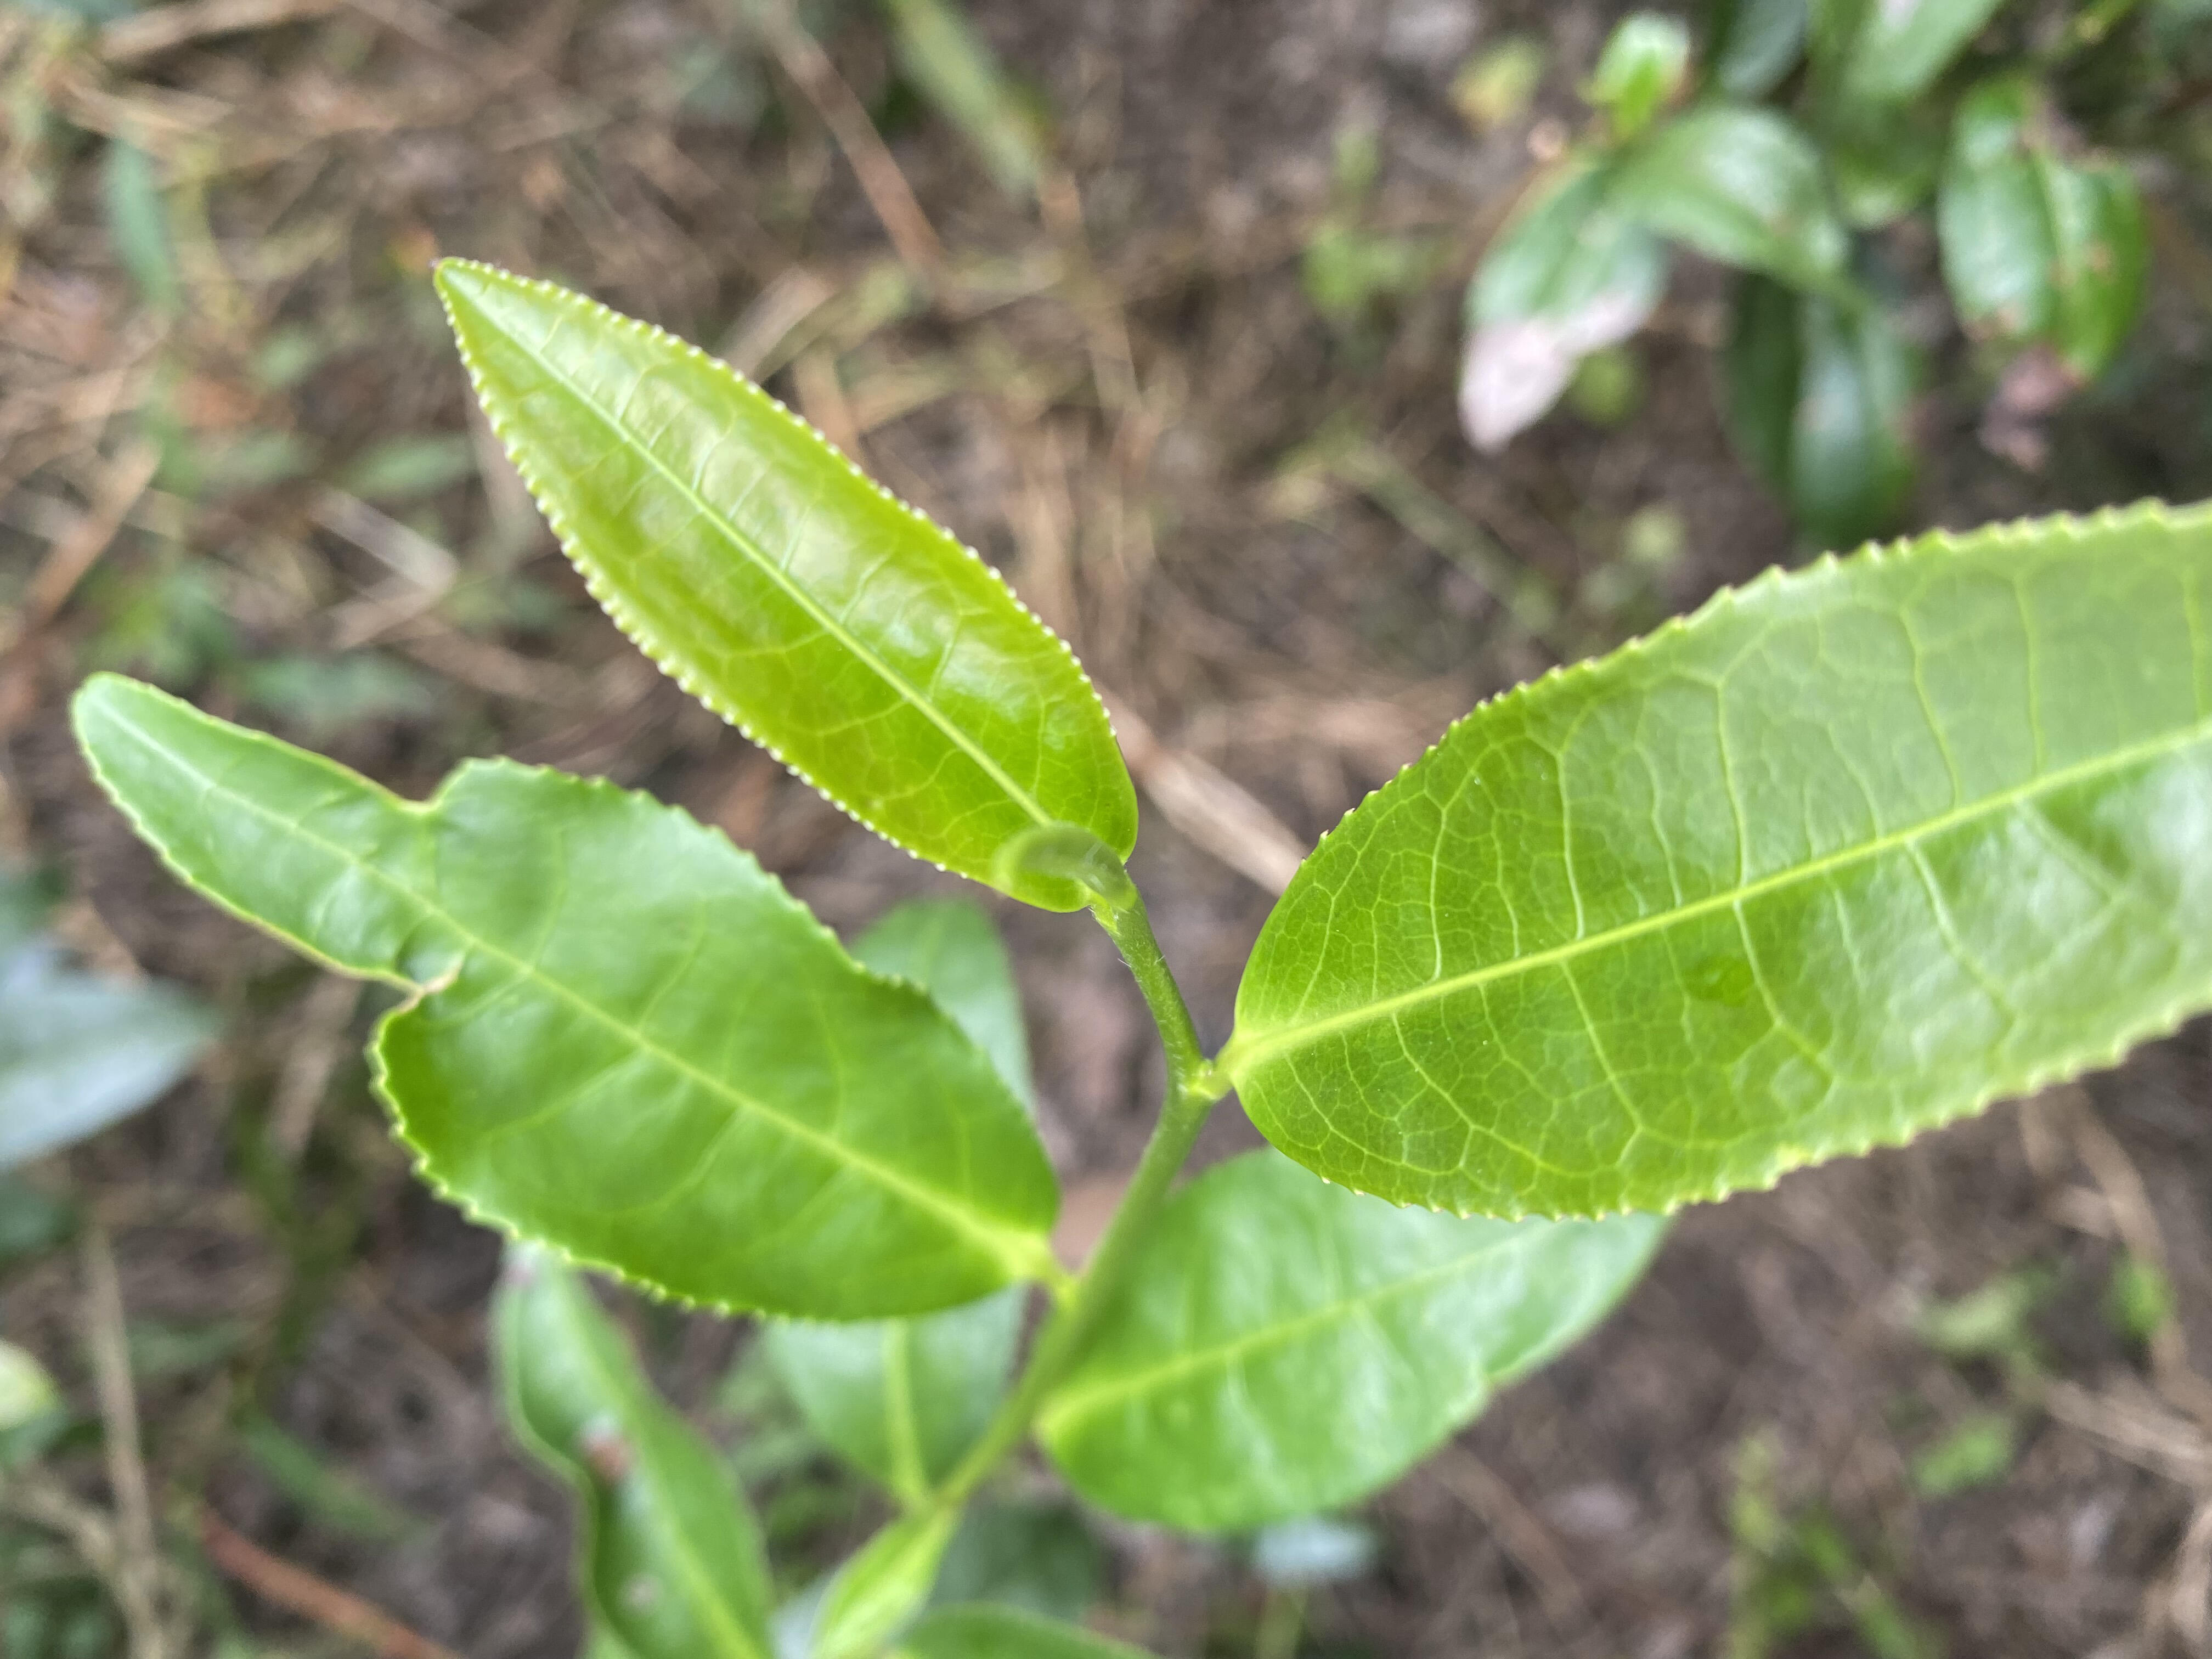chihuo_high: (66, 669, 1057, 1319)
healthy: (1230, 498, 2212, 1222), (430, 253, 1141, 915)
